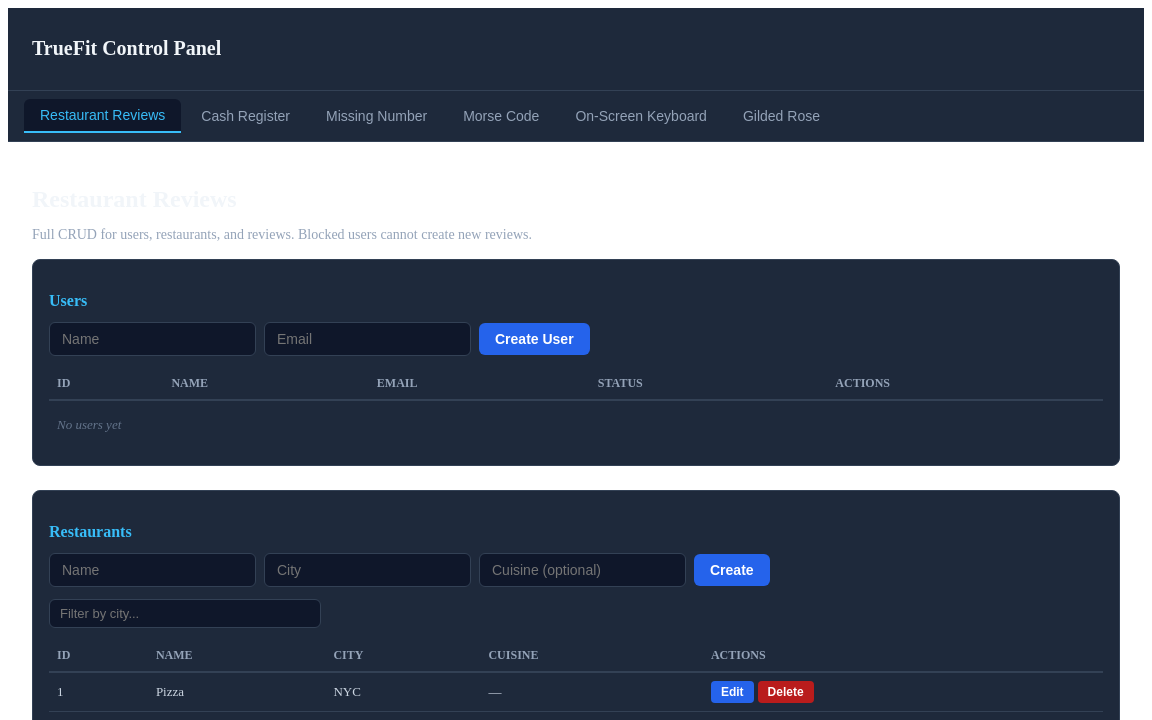
Test case: ReviewsPanel — restaurant table › delete restaurant with FK error shows inline message
Expected: the text "Pizza" is shown, [148,672,325,711]
Delete is the second Delete button (first is in user section for empty row)
What coordinates should you click on to do the following:
click the button "Delete"
I would click on:
 (786, 692)
Its box is [758,681,814,703].
(page scrolled)
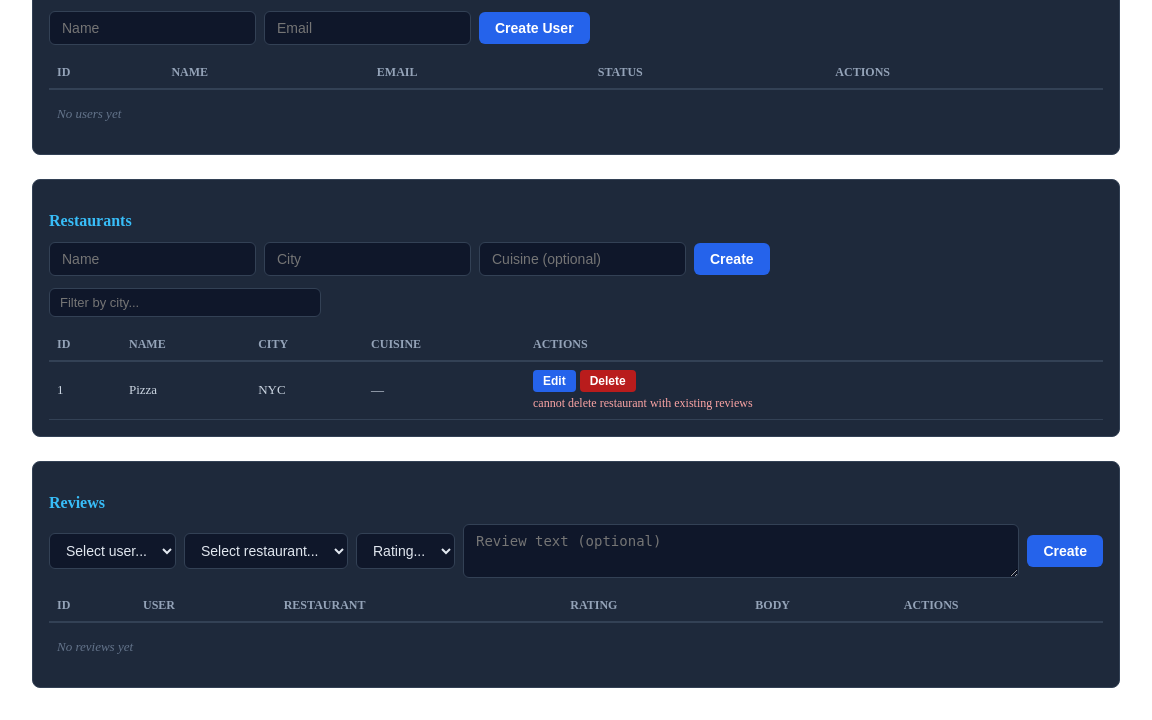
Result: the text "cannot delete restaurant with existing reviews" is shown at [533,396,753,410]
